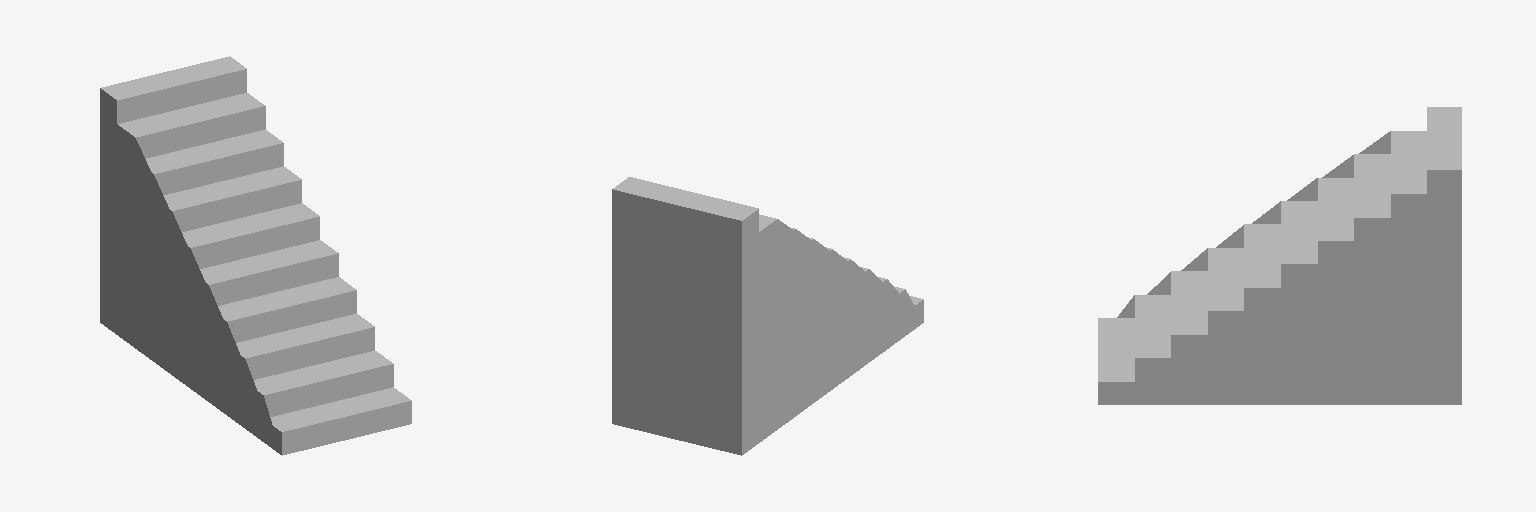
The model's file is Stairs.obj.
3 renders of one model, left to right at view 1: azimuth 30°, elevation 25°; view 2: azimuth 150°, elevation 25°; view 3: azimuth 270°, elevation 25°, orthographic.
Visible parts, largest first — view 1: Stairs; view 2: Stairs; view 3: Stairs.
Part boxes in pixels (left/top/right/bottom): Stairs: left=100, top=56, right=411, bottom=455; Stairs: left=612, top=177, right=923, bottom=455; Stairs: left=1098, top=107, right=1461, bottom=404.
Size of the model in its own units: 2.9 by 5 by 7.02.